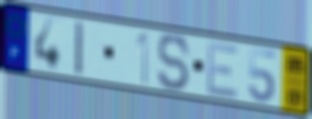1: (135, 32, 150, 86)
4: (33, 15, 64, 73)
5: (247, 47, 277, 104)
E: (205, 40, 240, 101)
I: (74, 19, 85, 78)
S: (156, 33, 191, 93)
